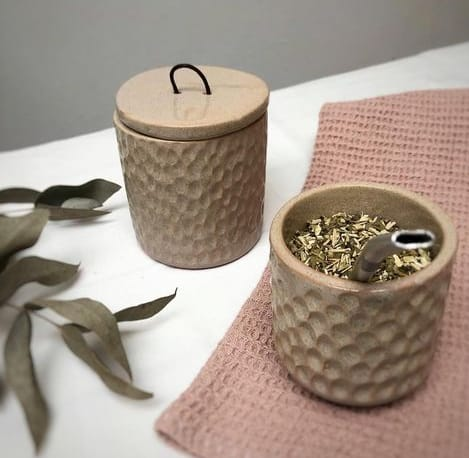mate: (271, 180, 459, 408)
